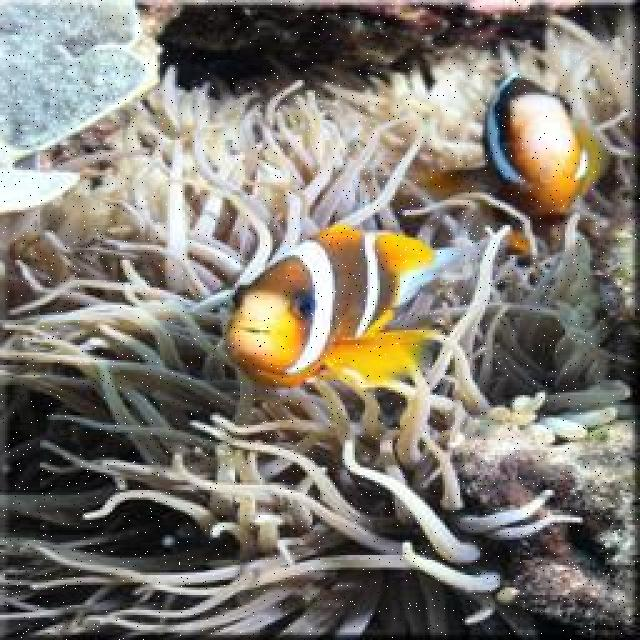fish: (227, 225, 489, 394), (434, 72, 606, 214)
reefs: (0, 4, 638, 638)
